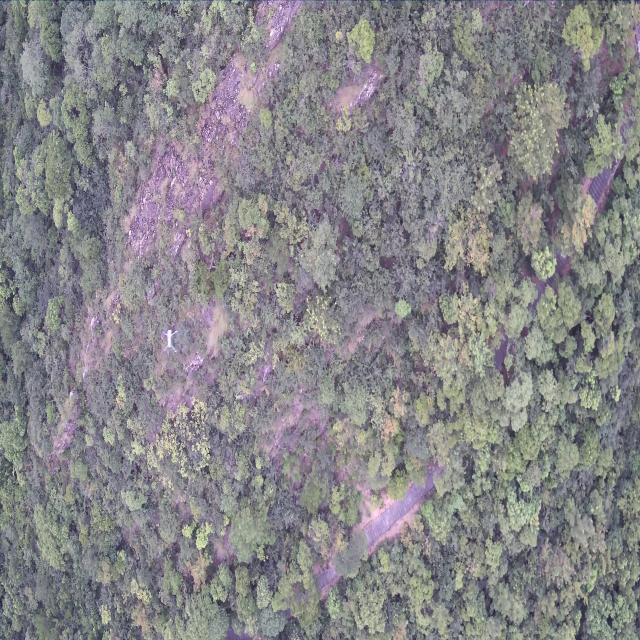UAV: (162, 328, 178, 354)
